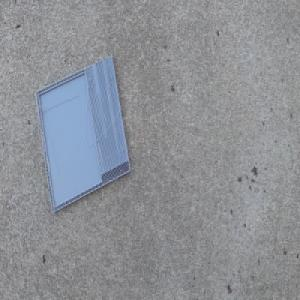PlasticPart: (35, 52, 132, 214)
